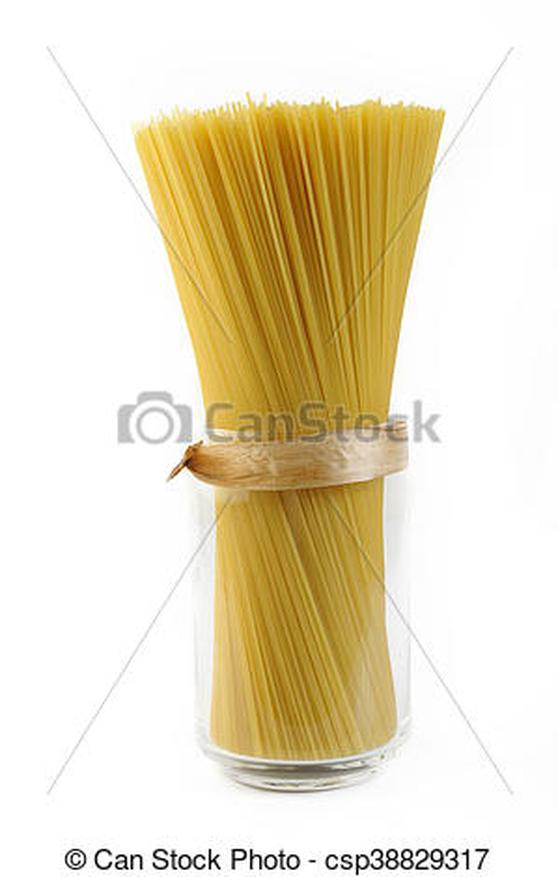spaghetti: (127, 94, 456, 797)
